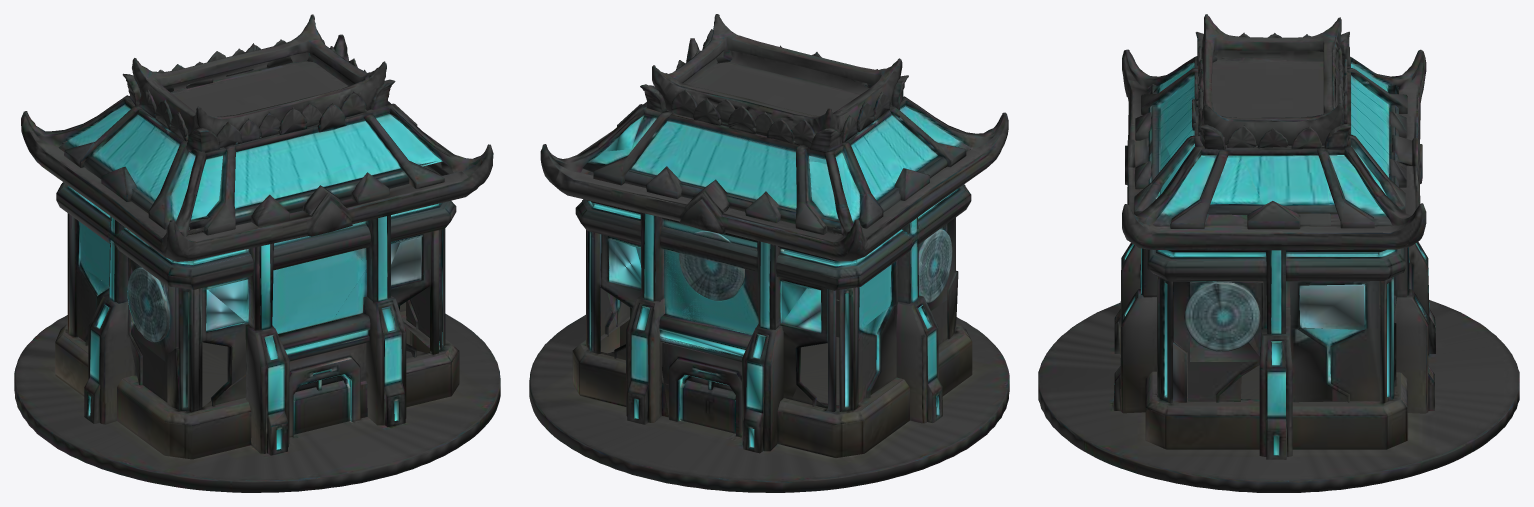
The model's file is drone_bay.glb.
3 renders of one model, left to right at view 1: azimuth 30°, elevation 25°; view 2: azimuth 150°, elevation 25°; view 3: azimuth 270°, elevation 25°, orthographic.
Visible parts, largest first — view 1: Body, Trim; view 2: Body, Trim; view 3: Body, Trim.
Boxes of the visible parts, x1,y1,x2,y2 form: Body: [14, 14, 500, 492]; Trim: [67, 105, 442, 449]; Body: [529, 14, 1009, 492]; Trim: [588, 106, 961, 447]; Body: [1038, 14, 1519, 492]; Trim: [1113, 62, 1429, 455].
Size of the model in its own units: 12 by 9.09 by 12.
2 materials, 2 textured.
